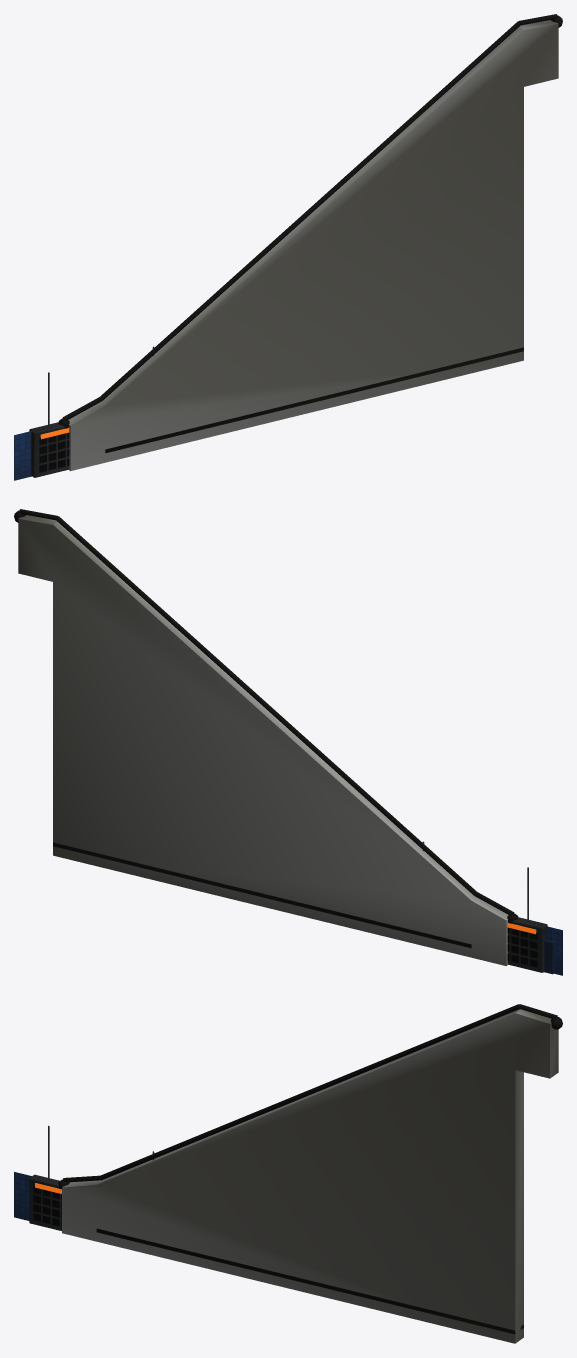
Rendered from r2_estacao.glb.
3 renders of one model, top to bottom at view 1: azimuth 30°, elevation 25°; view 2: azimuth 150°, elevation 25°; view 3: azimuth 330°, elevation 25°, orthographic.
Parts seen in each view (by area): view 1: balaustrada_rolante, painel_horarios, azulejo_azul; view 2: balaustrada_rolante, painel_horarios; view 3: balaustrada_rolante, painel_horarios, azulejo_azul.
Part boxes in pixels (x1,y1,x2,y2): balaustrada_rolante: (58, 14, 562, 471); painel_horarios: (29, 346, 154, 477); azulejo_azul: (14, 431, 31, 480); balaustrada_rolante: (14, 509, 518, 966); painel_horarios: (422, 841, 547, 972); balaustrada_rolante: (58, 1004, 562, 1343); painel_horarios: (29, 1125, 154, 1230); azulejo_azul: (14, 1172, 31, 1220).
Size of the model in its own units: 12.57 by 7.38 by 0.3595.
9 materials, 2 textured.
